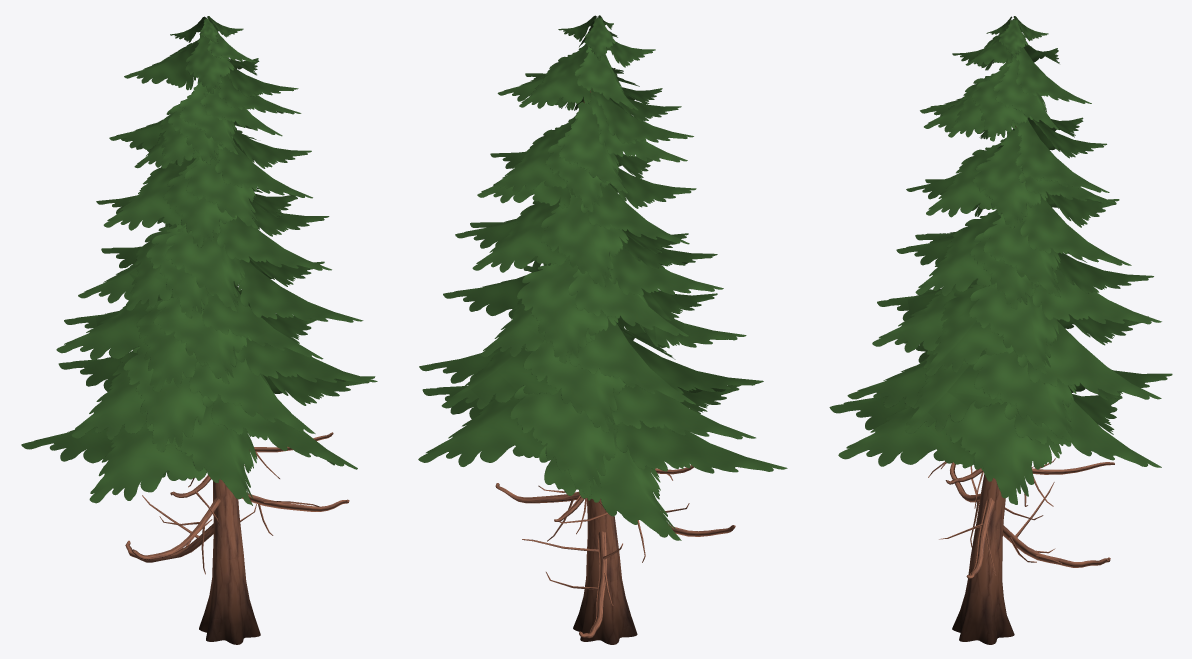
File: Pine_2.glb
The picture shows the model from 3 angles, left to right: view 1: azimuth 30°, elevation 25°; view 2: azimuth 150°, elevation 25°; view 3: azimuth 270°, elevation 25°; orthographic projection. The views are drawn at different scales.
Visible parts, largest first — view 1: Pine_4; view 2: Pine_4; view 3: Pine_4.
Part boxes in pixels (<box>): Pine_4: <box>21,16,377,644</box>; Pine_4: <box>418,15,787,644</box>; Pine_4: <box>829,16,1172,644</box>.
Bounding box in the file's own units: 5.8 × 10.24 × 5.37.
2 materials, 2 textured.
